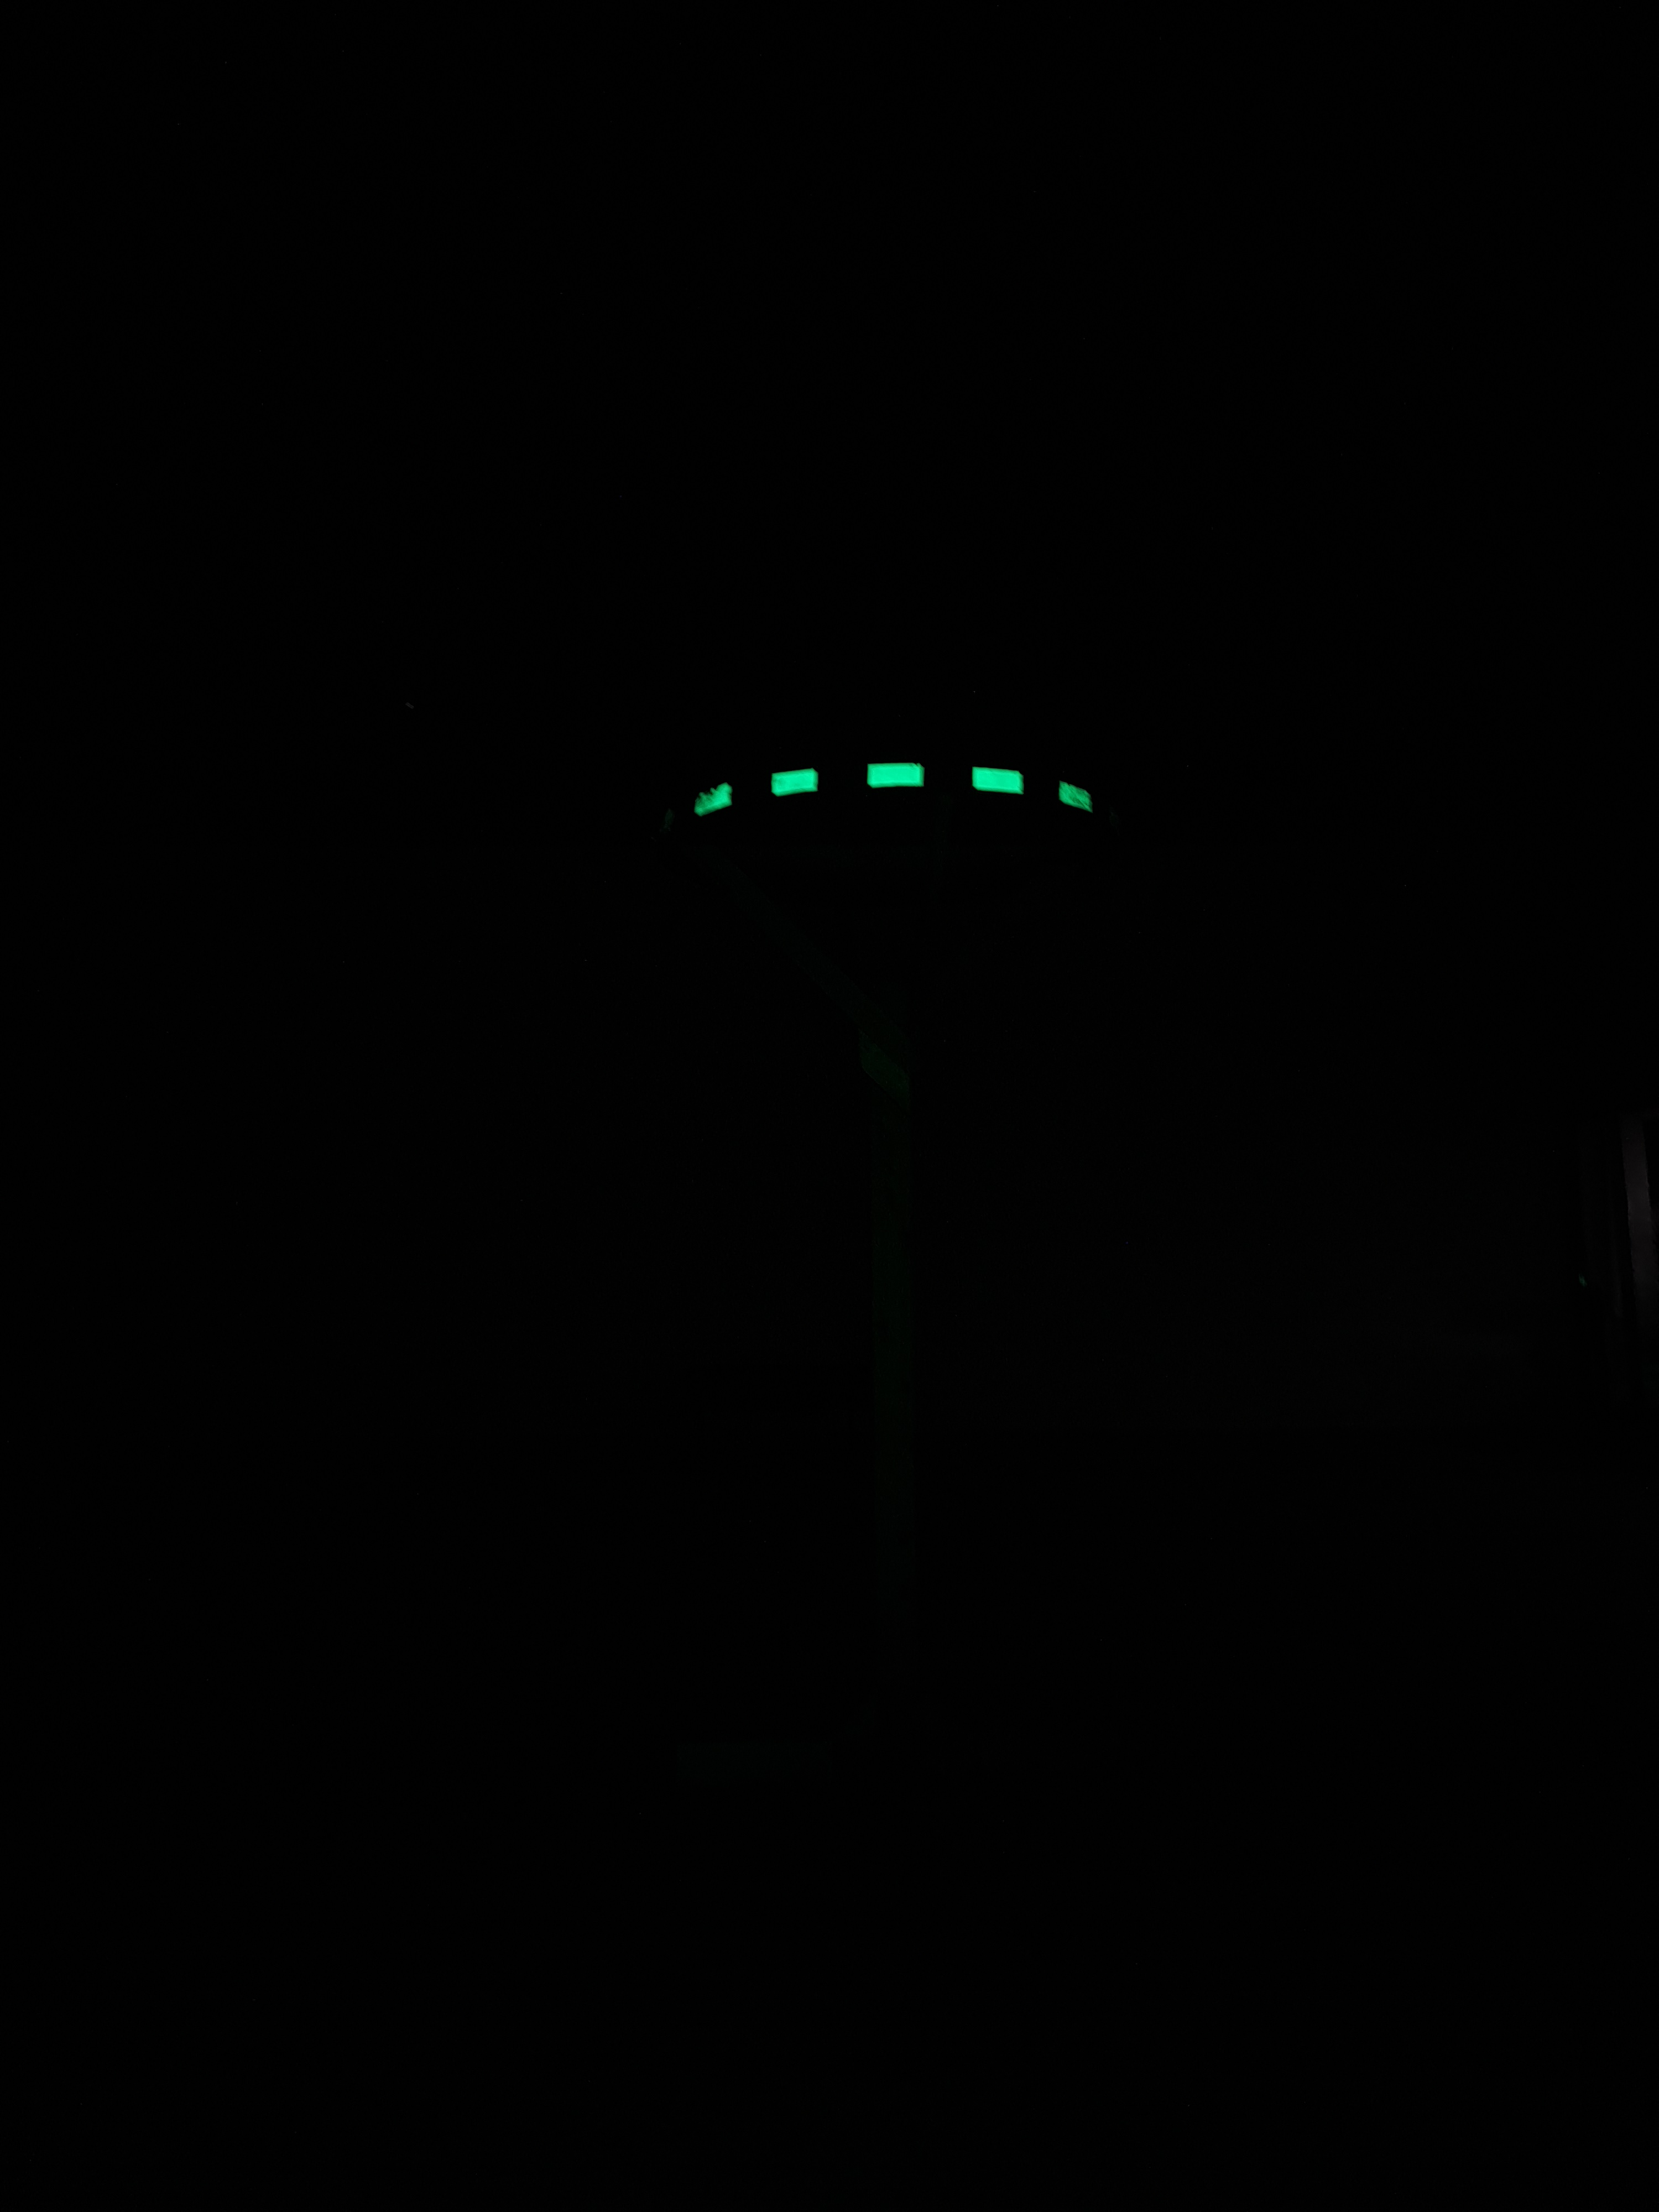hoop: (690, 759, 1098, 827)
